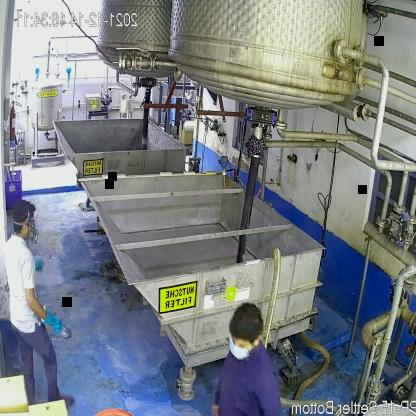mask: (20, 225, 40, 246)
no_goggles: (224, 334, 260, 352)
